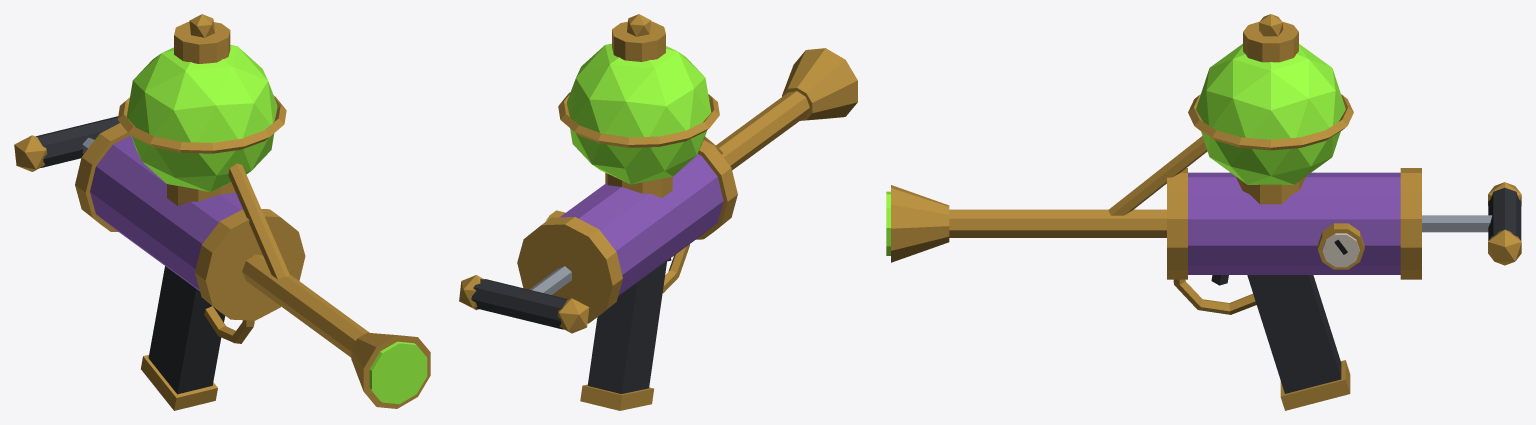
The model's file is GasGun.obj.
The picture shows the model from 3 angles, left to right: view 1: azimuth 30°, elevation 25°; view 2: azimuth 150°, elevation 25°; view 3: azimuth 270°, elevation 25°; orthographic projection. The views are drawn at different scales.
Visible parts, largest first — view 1: GasGun; view 2: GasGun; view 3: GasGun.
Boxes of the visible parts, x1,y1,x2,y2 form: GasGun: [14, 14, 430, 410]; GasGun: [459, 14, 857, 410]; GasGun: [886, 14, 1521, 410].
Bounding box in the file's own units: 0.142 × 0.3652 × 0.5435.
